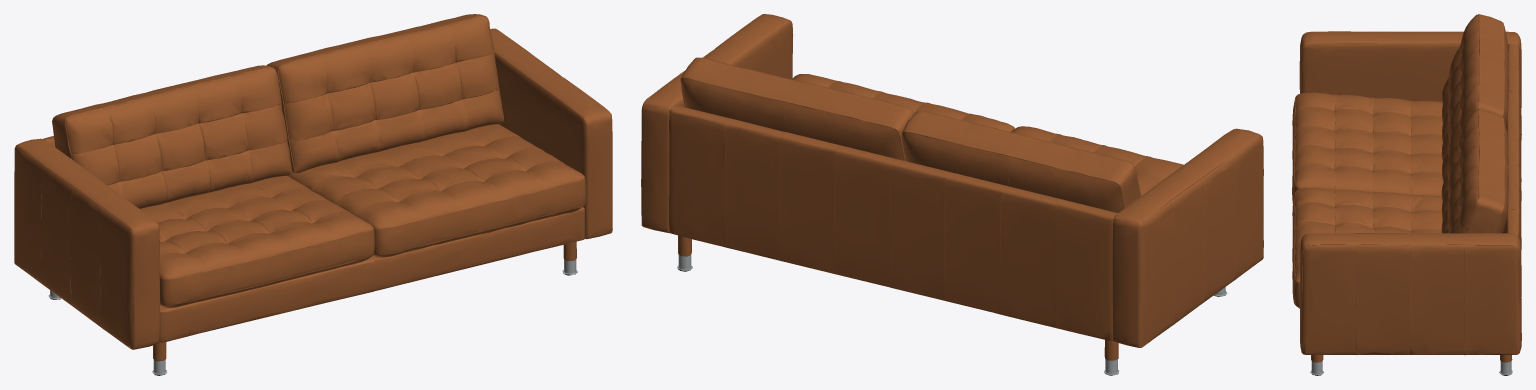
File: 04 - LANDSKRONA 3-seat sofa - GrannBomstad golden-brownmetal.glb
3 views of the same model, side by side, from view 1: azimuth 30°, elevation 25°; view 2: azimuth 150°, elevation 25°; view 3: azimuth 270°, elevation 25° (orthographic). The views are drawn at different scales.
Visible parts, largest first — view 1: Mesh_0; view 2: Mesh_0; view 3: Mesh_0.
Part boxes in pixels (left/top/right/bottom): Mesh_0: left=14, top=14, right=612, bottom=375; Mesh_0: left=641, top=14, right=1263, bottom=375; Mesh_0: left=1292, top=14, right=1521, bottom=375.
Bounding box in the file's own units: 2.07 × 0.7832 × 0.9241.
1 material, 1 textured.
